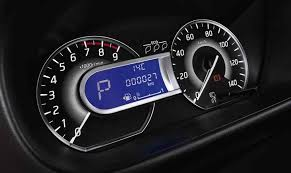Digital_Meter: (81, 49, 180, 114)
